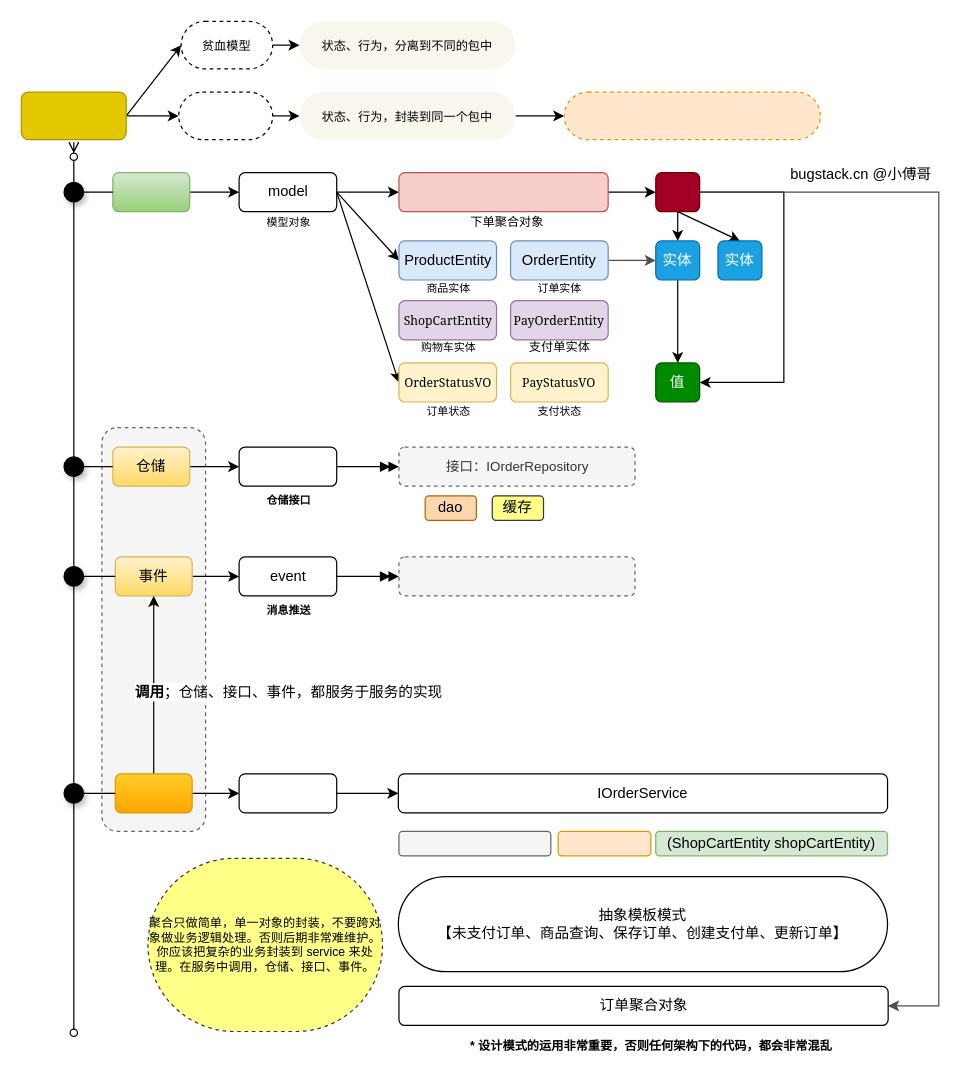
The diagram is 970 pixels wide and 1082 high, and some of its shapes have lost their labels. The centre of each missing label's shape, as x and y in pixels:
createOrder: pixel 604 843
CreateOrderAggregate: pixel 503 191
public PayOrderEntity: pixel 474 843
repository: pixel 287 466
service: pixel 287 793
但这还远远不够，只有把一个 领域包 看做一个充血结构，才会更易于维护。: pixel 691 115
充血模型: pixel 225 115
接口：Event Bus: pixel 516 576
服务: pixel 153 793
模型: pixel 151 191
聚合: pixel 677 191
领域层: pixel 73 115
